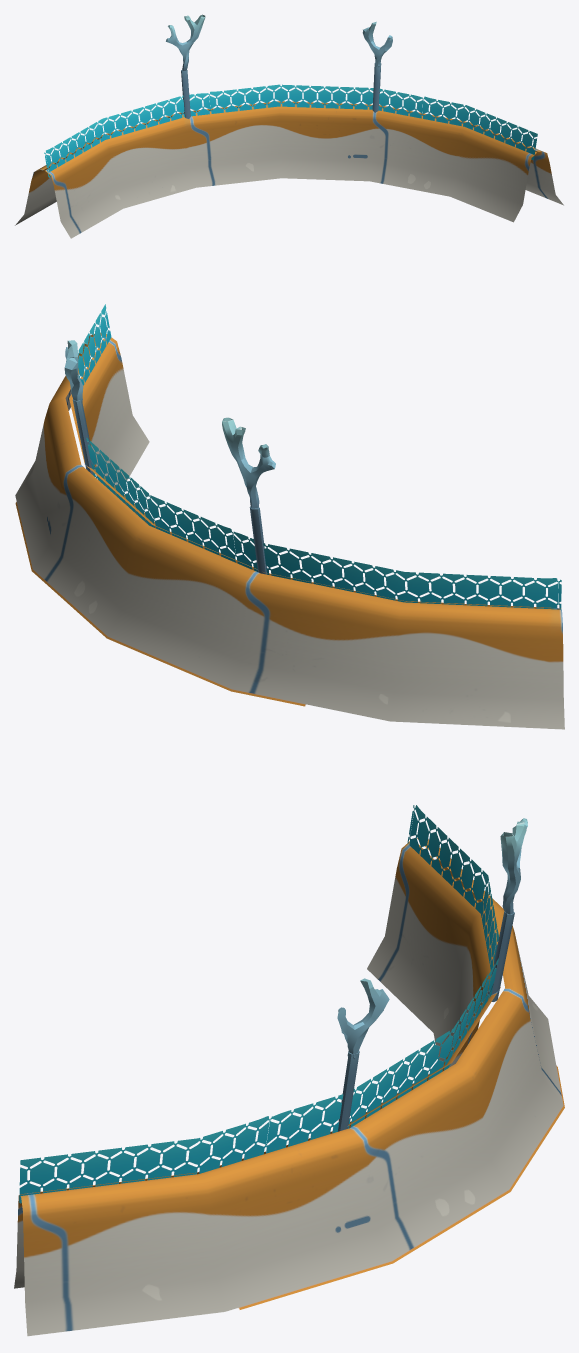
Rendered from mur_vision (1).fbx.
3 renders of one model, top to bottom at view 1: azimuth 30°, elevation 25°; view 2: azimuth 150°, elevation 25°; view 3: azimuth 270°, elevation 25°, orthographic. The views are drawn at different scales.
Visible parts, largest first — view 1: S_Wall_03; view 2: S_Wall_03; view 3: S_Wall_03.
Boxes of the visible parts, x1,y1,x2,y2 form: S_Wall_03: (15, 14, 563, 238); S_Wall_03: (15, 304, 564, 729); S_Wall_03: (14, 805, 564, 1336).
Size of the model in its own units: 911 by 314 by 533.
1 material, 1 textured.
